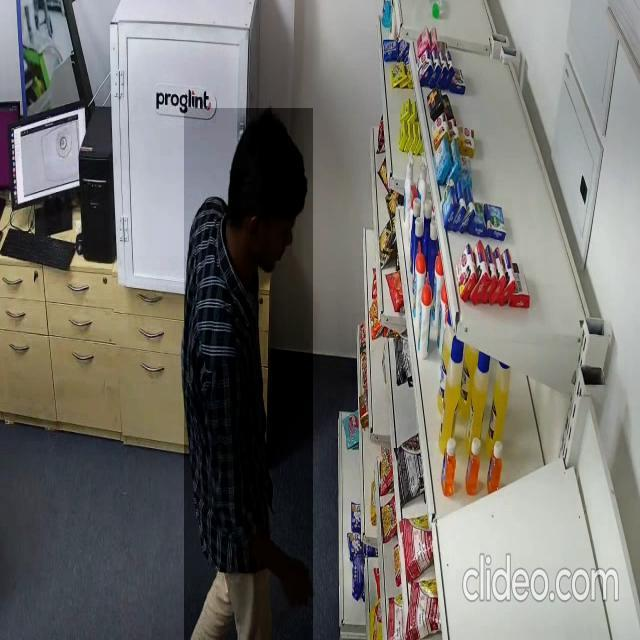normal: (184, 108, 313, 640)
